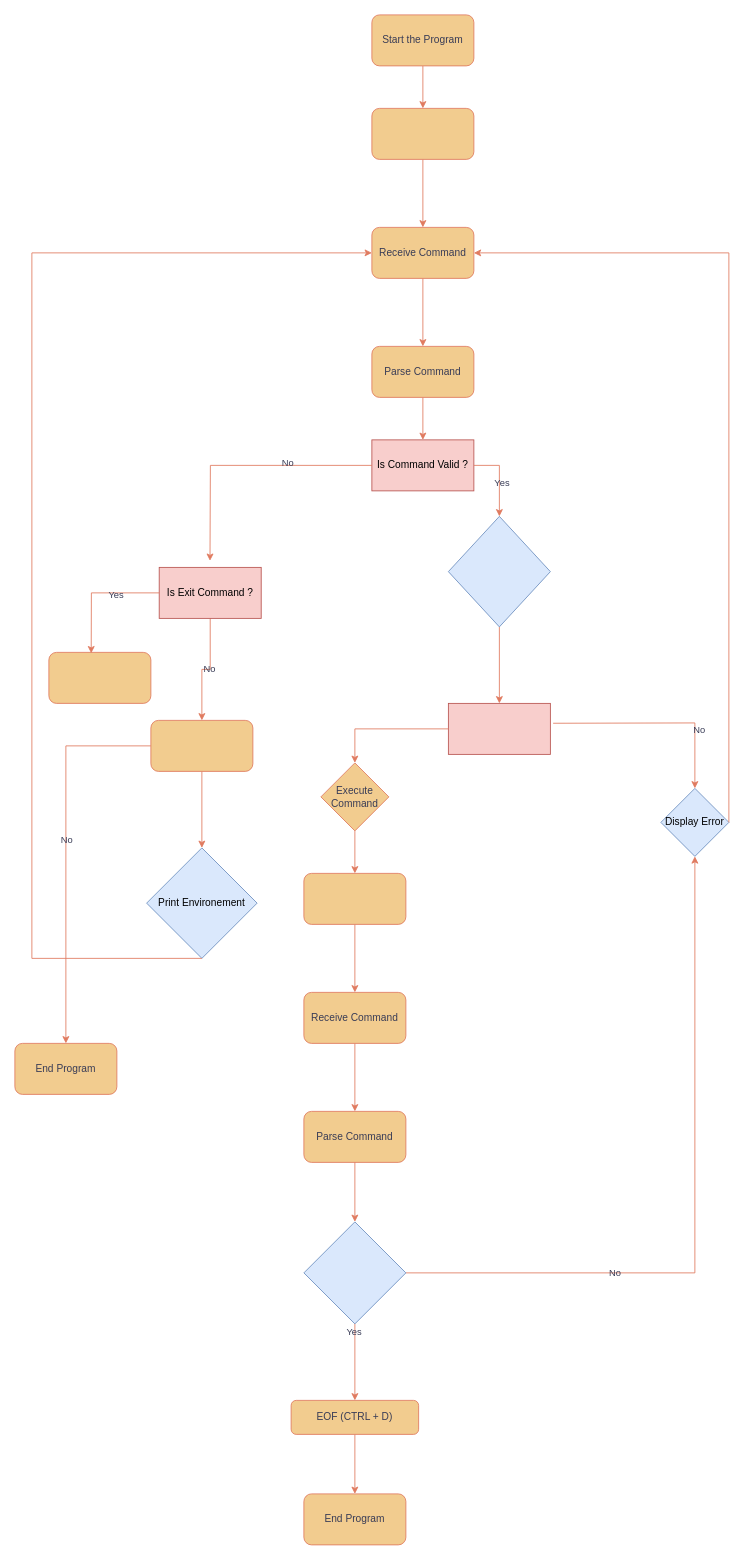
Some shapes in this 751 by 1560 pixel diagram are drawn without their labels. The shapes that lost their labels are listed below. From the top down, each one's box as (x1, y1, x2, y2) in pixels, then its label:
(371, 108, 474, 159): Display the Prompt
(448, 516, 550, 627): Search Command in Path
(48, 652, 151, 703): Exit Program
(150, 720, 253, 771): Is Env Command
(448, 703, 550, 754): Command Found?
(303, 873, 406, 924): Display Prompt
(303, 1221, 406, 1324): Is Command Valid
